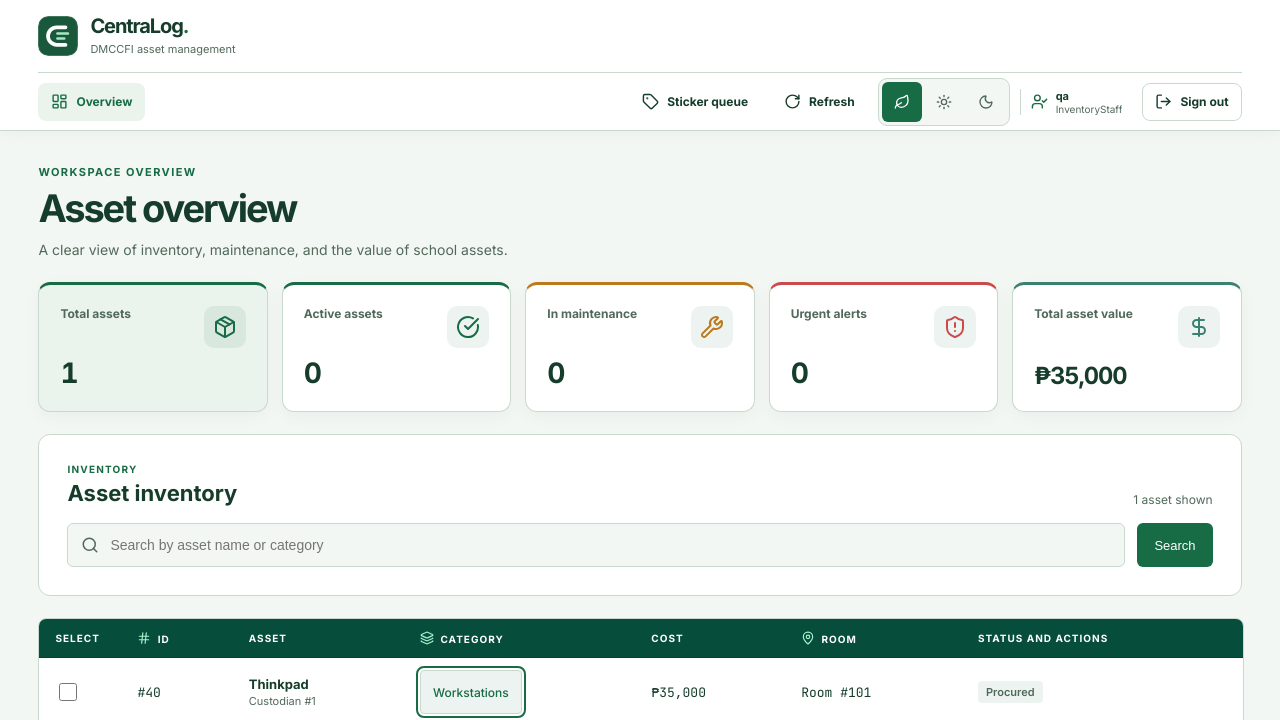
Test case: Partner QA reports #8, #9 and #10 › #9 exposes an accessible category detail action for InventoryStaff and returns focus after dismissal
Click the button with aria-label "Workstations: open asset details for Thinkpad": [471, 692] box x1=420 y1=670 x2=522 y2=714
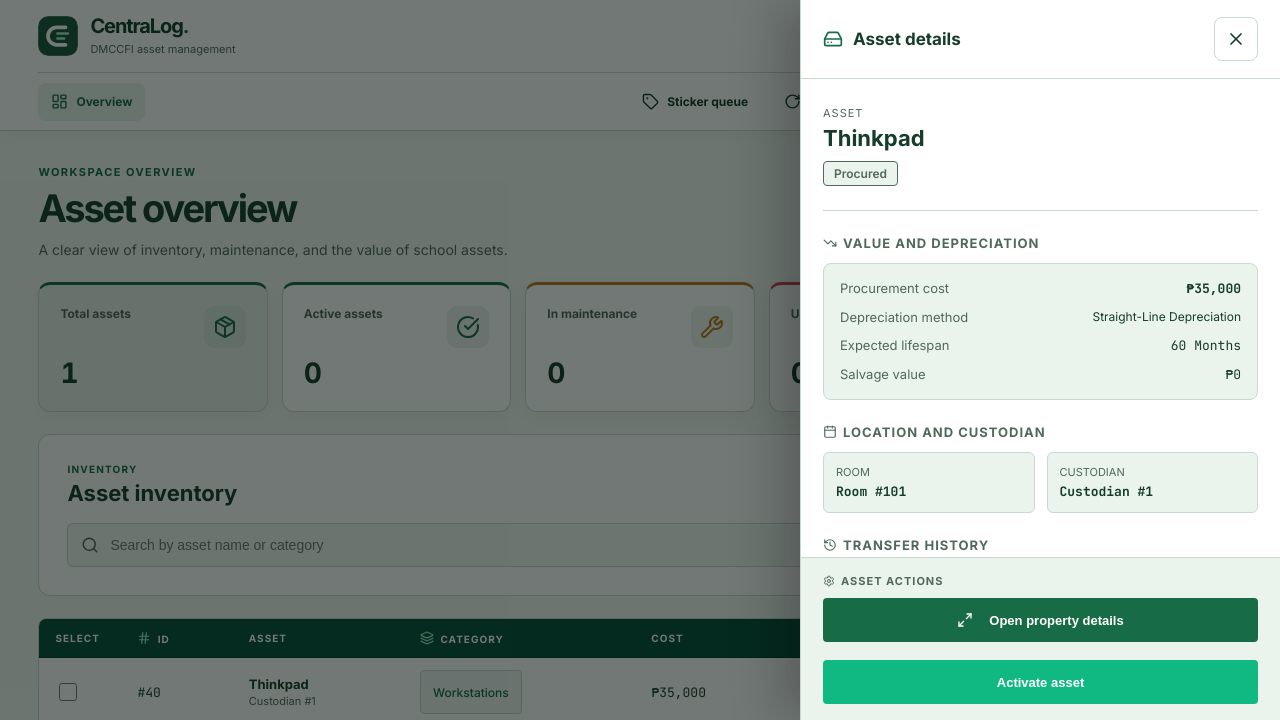
expect the dialog is shown: met, box x1=800 y1=0 x2=1279 y2=719
expect the button named "Close asset details" is shown: met
Click the button named "Close asset details": [1236, 39] box x1=1214 y1=17 x2=1258 y2=61
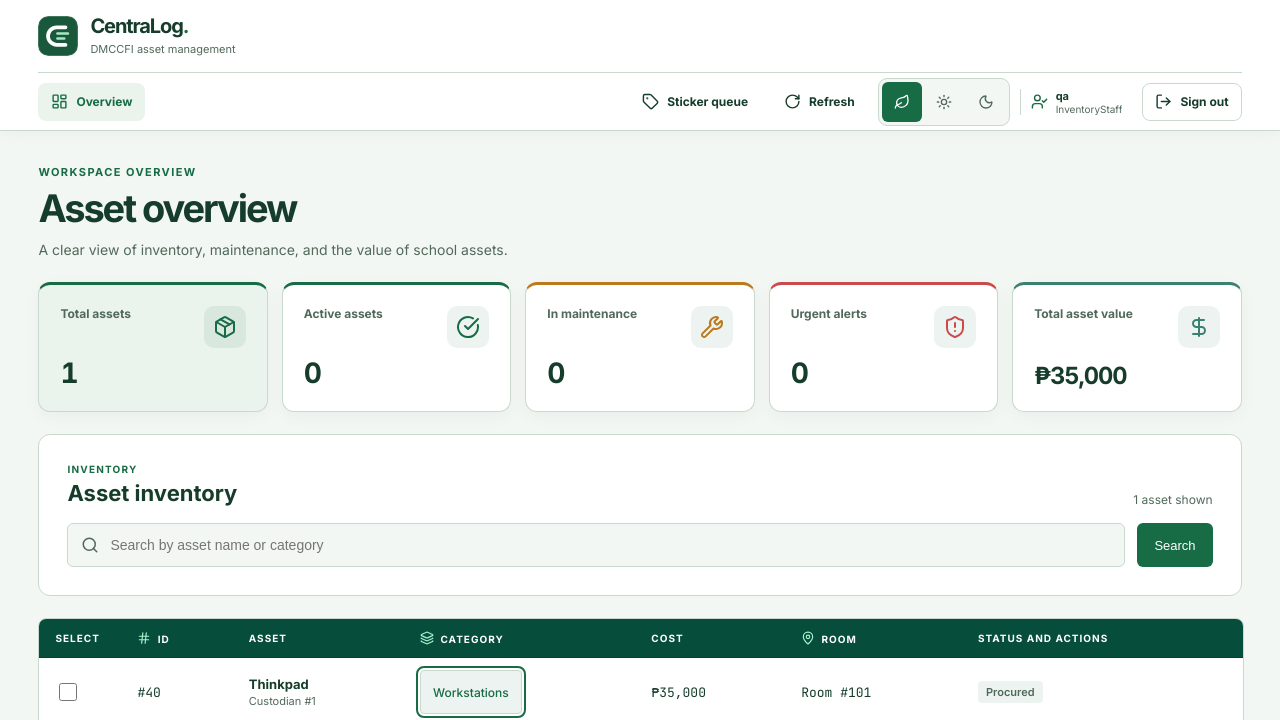
expect the dialog is gone: met
